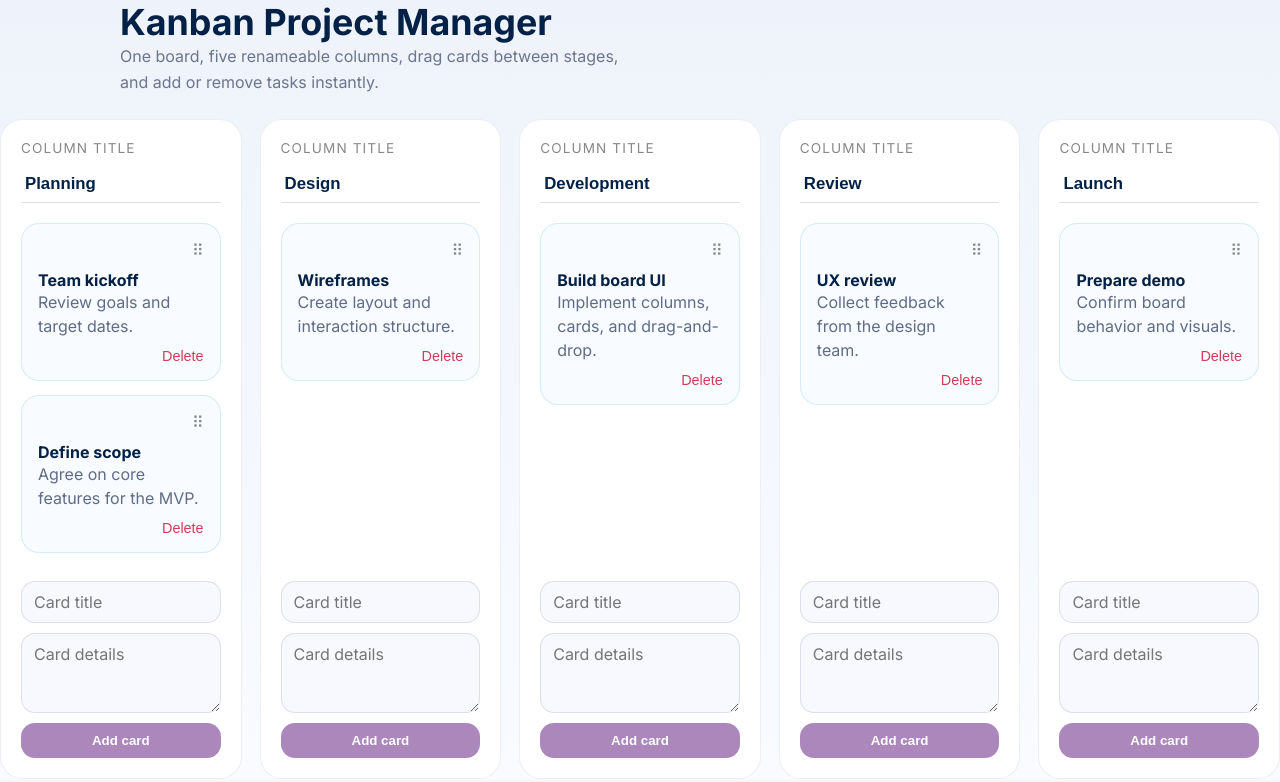
Test: KanbanBoard › adds a new card to a column
In the 1st field with placeholder "Card title": {"x": 121, "y": 602} 21,581 -> 221,623, type "New task"
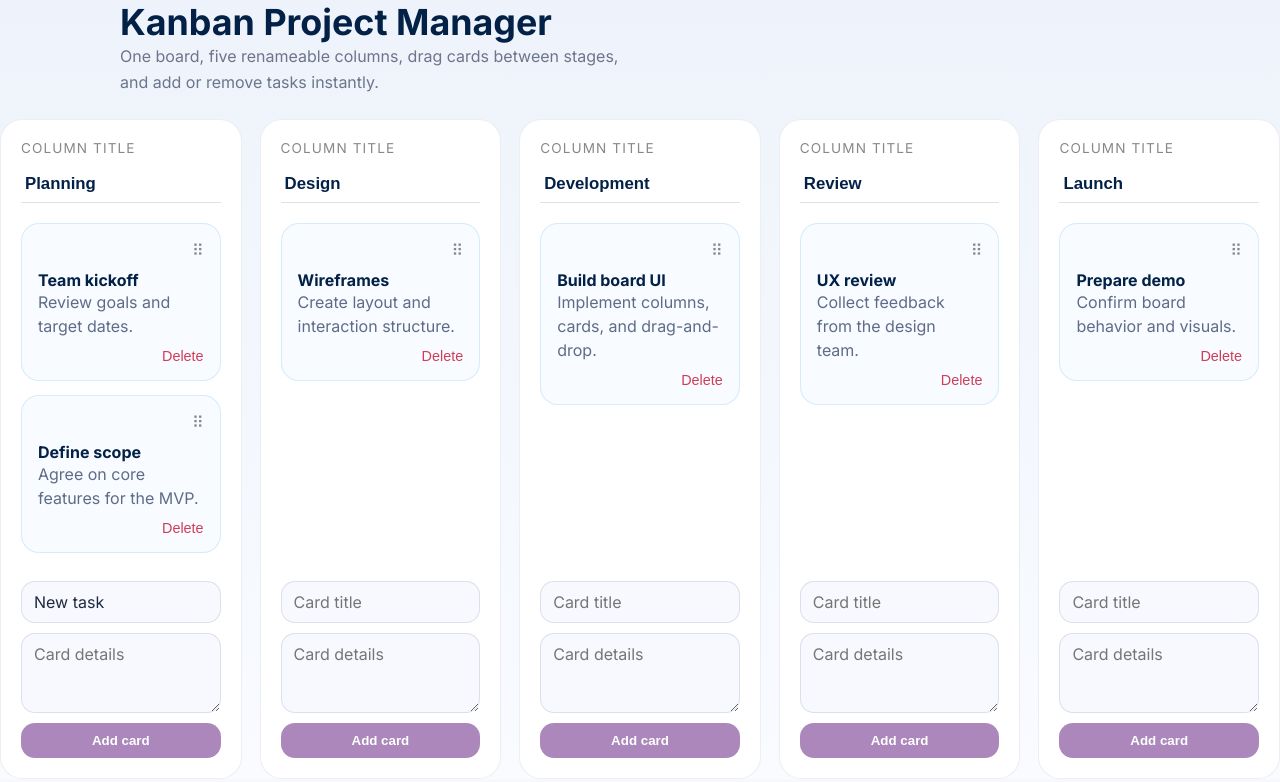
In the 1st text box with placeholder "Card details": {"x": 121, "y": 673} 21,633 -> 221,713, type "New details here"
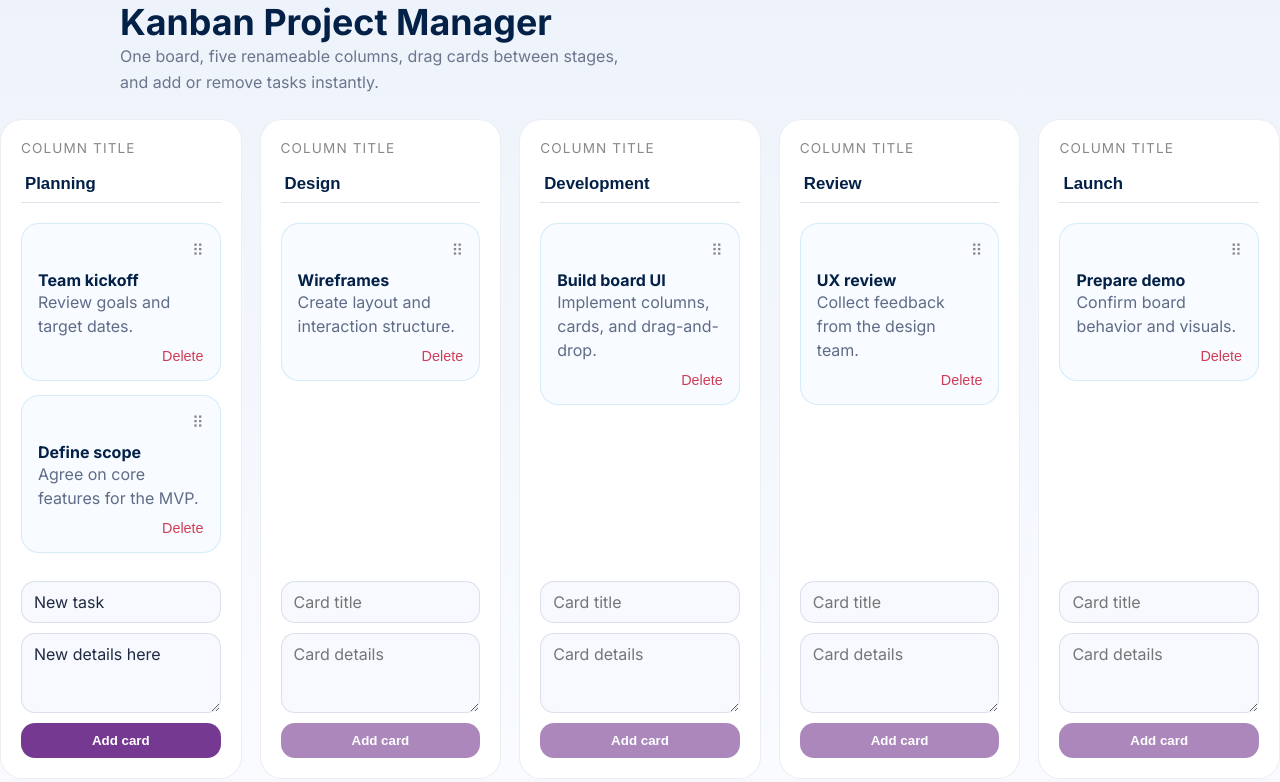
Click the 1st button "Add card": {"x": 121, "y": 741} 21,723 -> 221,758
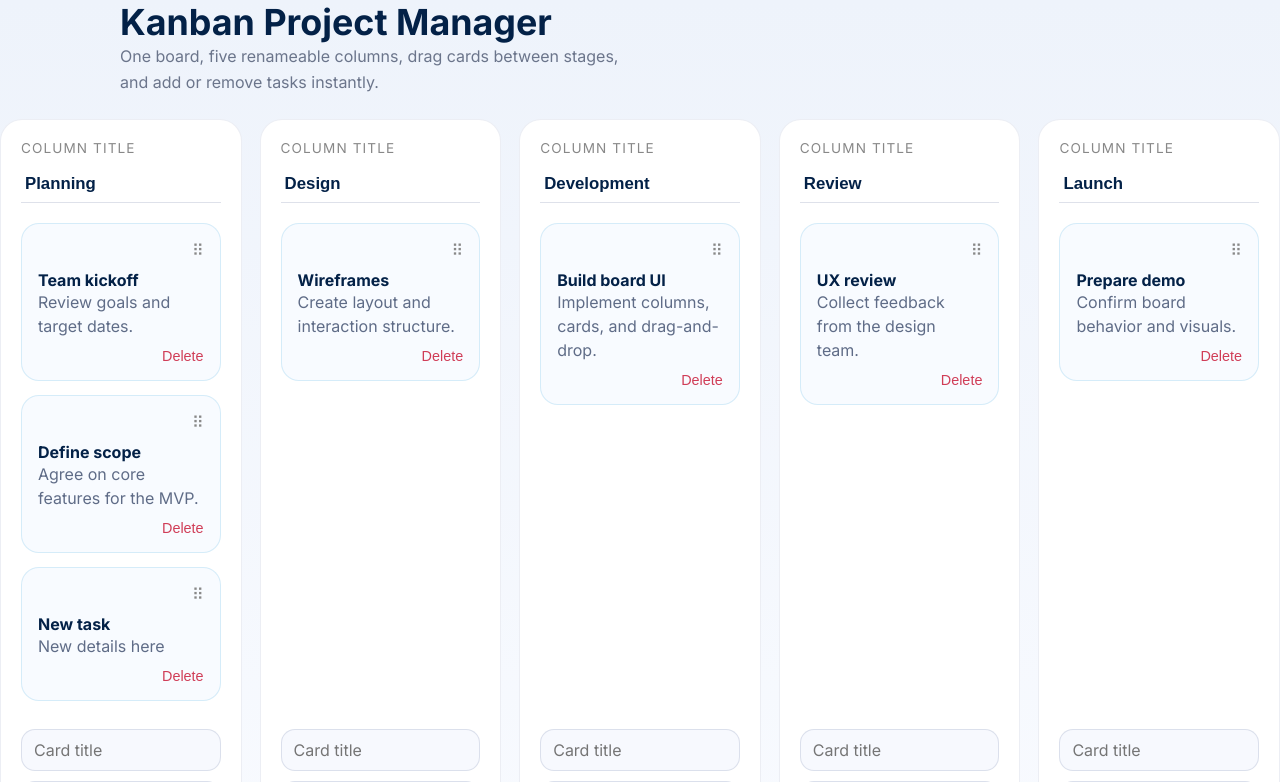
Expected: the heading "New task" is shown, 38,614 -> 110,634
Expected: the text "New details here" is shown, 38,636 -> 165,656
